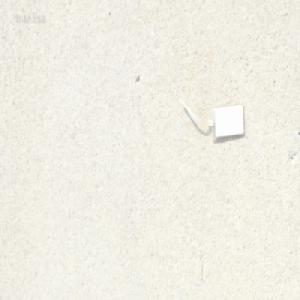LuggageTag: (176, 99, 246, 141)
